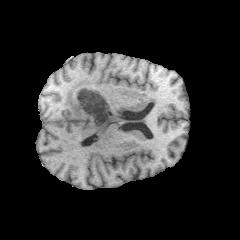glioma: (65, 79, 126, 138)
